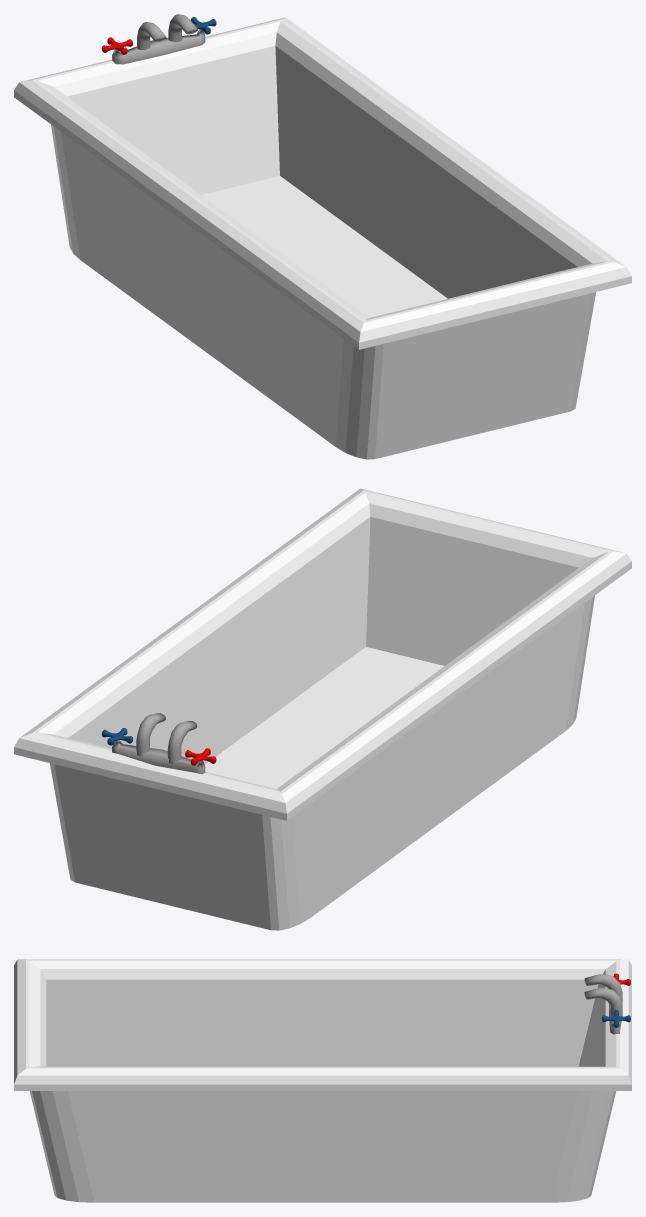
Rendered from Prop_Bath_01.fbx.
3 views of the same model, one above another, from view 1: azimuth 30°, elevation 25°; view 2: azimuth 150°, elevation 25°; view 3: azimuth 270°, elevation 25° (orthographic). The views are drawn at different scales.
Visible parts, largest first — view 1: Prop_Bath_01; view 2: Prop_Bath_01; view 3: Prop_Bath_01.
Boxes of the visible parts, x1,y1,x2,y2 form: Prop_Bath_01: (14,14,631,459); Prop_Bath_01: (14,488,631,930); Prop_Bath_01: (14,959,631,1202).
Size of the model in its own units: 91.44 by 61.2 by 200.
